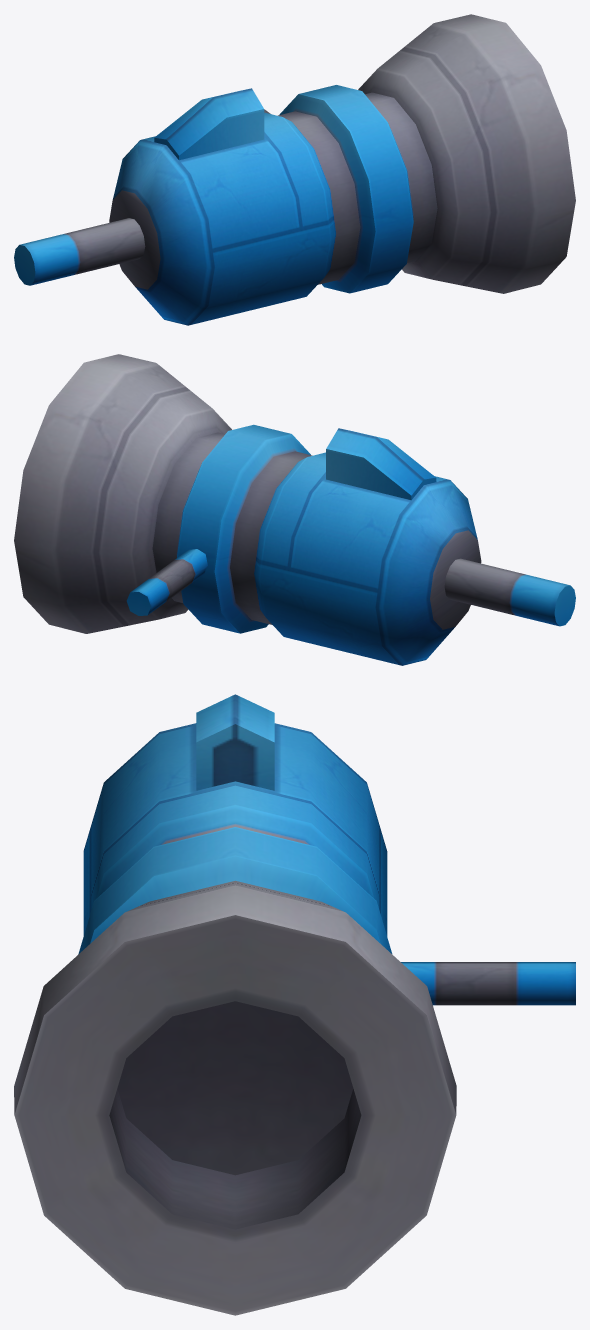
The model's file is sn_shp002.FBX.
3 views of the same model, one above another, from view 1: azimuth 30°, elevation 25°; view 2: azimuth 150°, elevation 25°; view 3: azimuth 270°, elevation 25° (orthographic). The views are drawn at different scales.
Visible parts, largest first — view 1: sn_shp002; view 2: sn_shp002; view 3: sn_shp002.
Part boxes in pixels (x1=…): sn_shp002: x1=14, y1=14, x2=575, y2=325; sn_shp002: x1=14, y1=354, x2=575, y2=665; sn_shp002: x1=14, y1=694, x2=575, y2=1315.
Size of the model in its own units: 0.9814 by 0.4942 by 0.6271.
